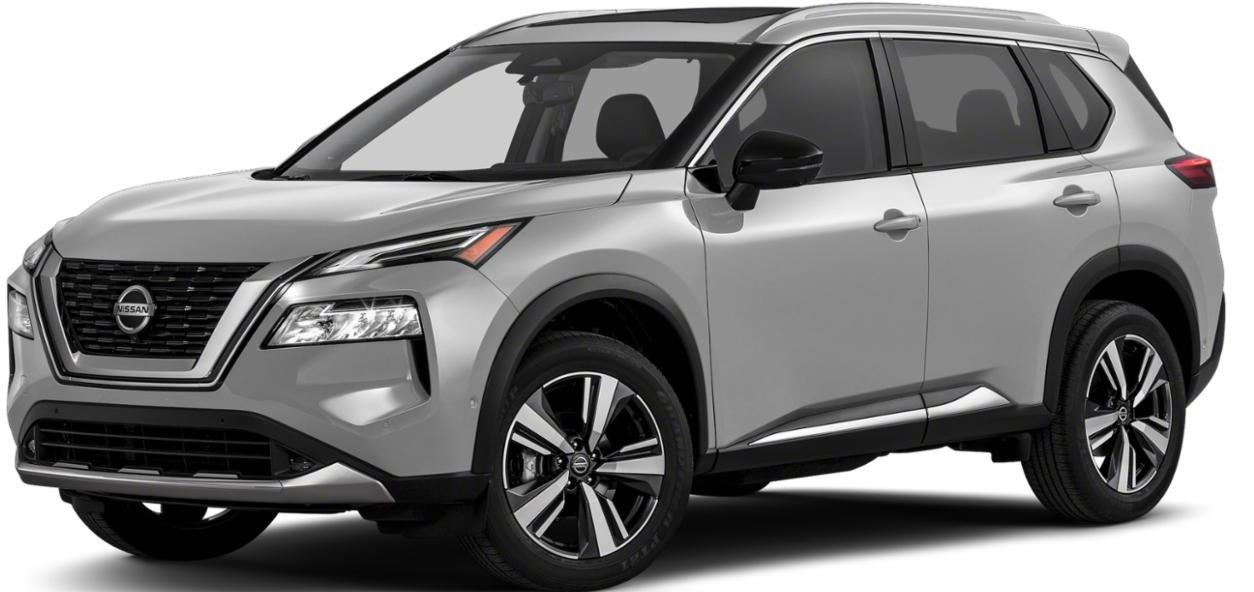SUV: (8, 6, 1226, 589)
